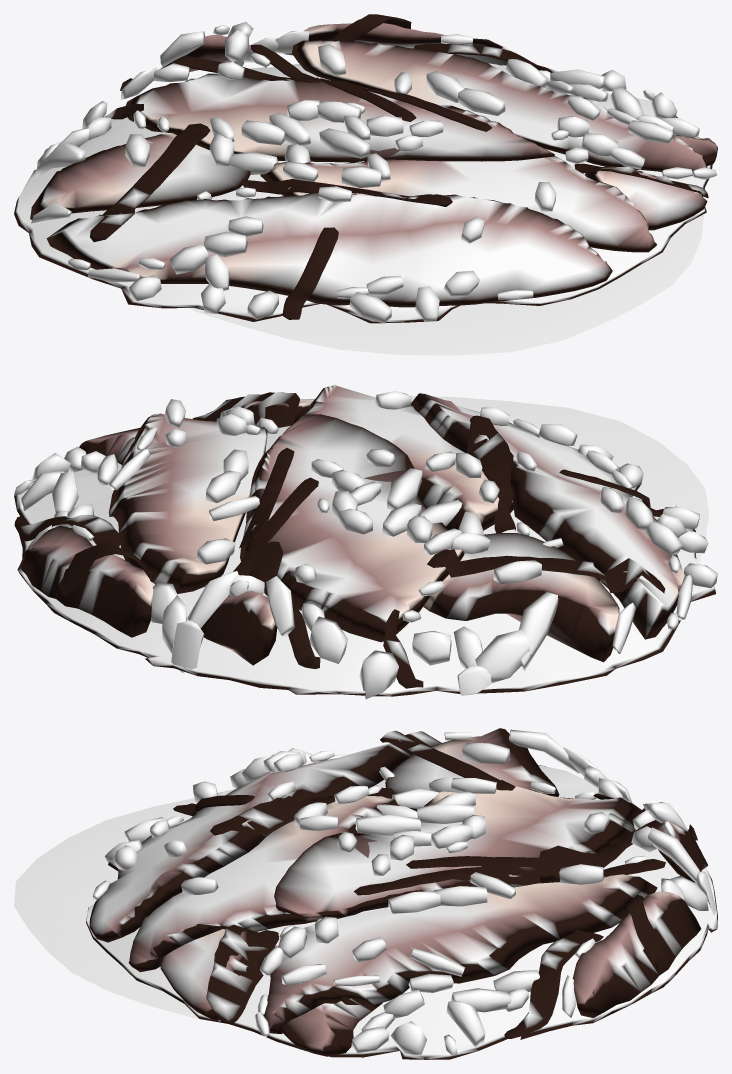
Rendered from SM_D14_wok.fbx.
3 renders of one model, top to bottom at view 1: azimuth 30°, elevation 25°; view 2: azimuth 150°, elevation 25°; view 3: azimuth 270°, elevation 25°, orthographic. The views are drawn at different scales.
Parts seen in each view (by area): view 1: SM_D14_wok; view 2: SM_D14_wok; view 3: SM_D14_wok.
Boxes of the visible parts, left/top/right/bottom form: SM_D14_wok: left=14, top=14, right=717, bottom=355; SM_D14_wok: left=14, top=384, right=717, bottom=699; SM_D14_wok: left=14, top=728, right=717, bottom=1059.
Bounding box in the file's own units: 0.1588 × 0.0206 × 0.1563.
